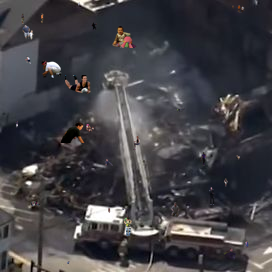Human: (112, 26, 137, 48), (223, 240, 249, 261), (60, 122, 85, 143), (65, 75, 91, 94), (41, 60, 62, 79), (21, 13, 44, 24), (123, 214, 132, 237), (200, 152, 213, 166), (22, 25, 34, 40), (171, 202, 180, 217), (209, 187, 215, 205), (232, 5, 245, 13), (133, 136, 140, 150), (108, 207, 124, 213), (86, 124, 94, 133), (91, 22, 99, 31), (105, 159, 113, 166), (30, 201, 40, 206), (25, 56, 31, 64), (224, 178, 228, 187), (177, 108, 185, 112), (15, 121, 18, 128), (236, 155, 240, 160), (78, 2, 80, 7), (67, 261, 70, 264)
